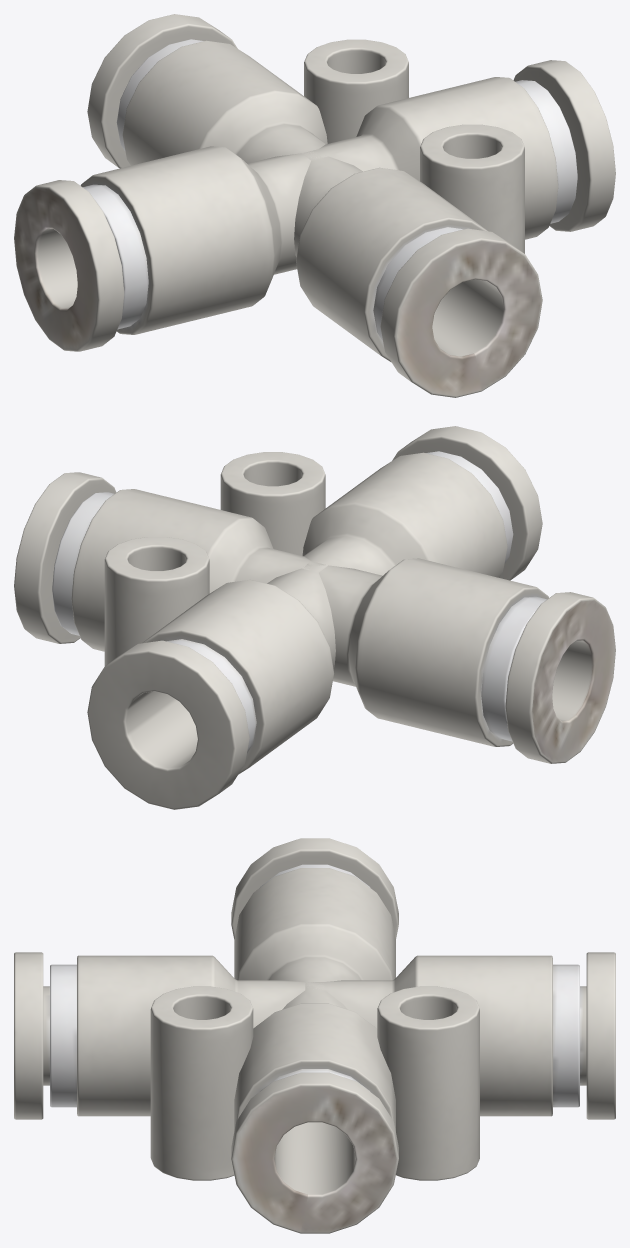
The model's file is 十字形四通快插气动接头.fbx.
3 renders of one model, top to bottom at view 1: azimuth 30°, elevation 25°; view 2: azimuth 150°, elevation 25°; view 3: azimuth 270°, elevation 25°, orthographic. The views are drawn at different scales.
Visible parts, largest first — view 1: 十字形四通快插气动接头; view 2: 十字形四通快插气动接头; view 3: 十字形四通快插气动接头.
Part boxes in pixels (x1=…): 十字形四通快插气动接头: x1=14, y1=14, x2=615, y2=397; 十字形四通快插气动接头: x1=14, y1=426, x2=615, y2=809; 十字形四通快插气动接头: x1=14, y1=838, x2=615, y2=1233.
Size of the model in its own units: 7.45 by 2.15 by 7.68.
